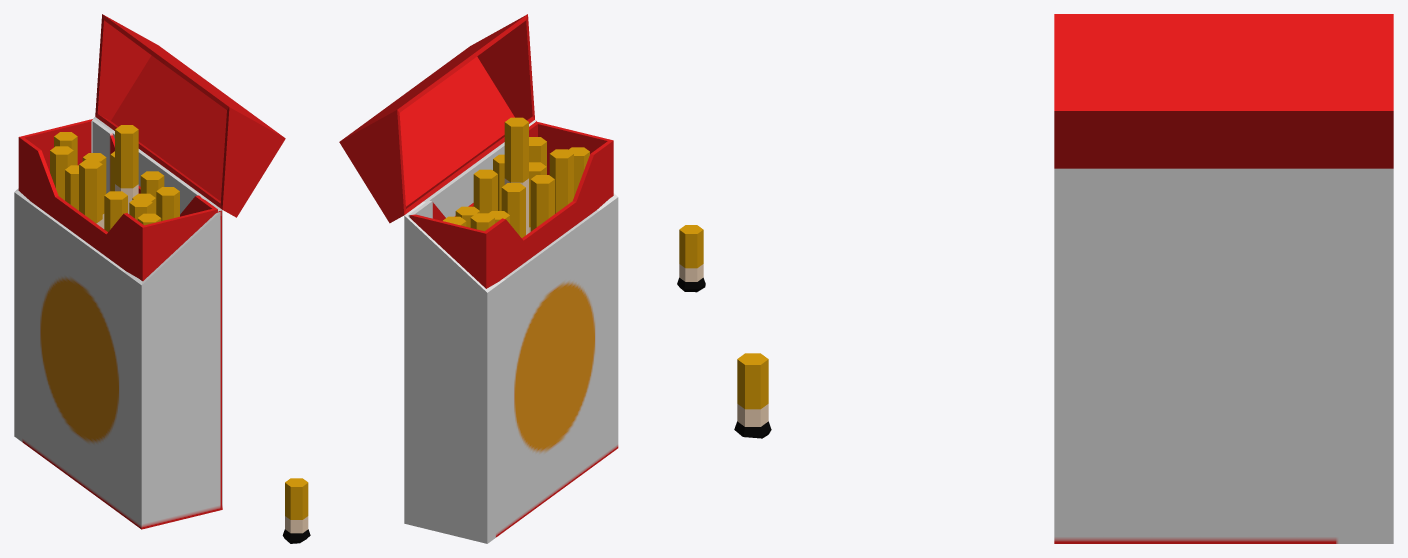
File: ciggy fixed.fbx
The picture shows the model from 3 angles, left to right: view 1: azimuth 30°, elevation 25°; view 2: azimuth 150°, elevation 25°; view 3: azimuth 270°, elevation 25°; orthographic projection. The views are drawn at different scales.
Visible parts, largest first — view 1: ciggy box, ciggy, ciggy.014, used ciggy; view 2: ciggy box, ciggy, ciggy.014, used ciggy; view 3: ciggy box, ciggy, used ciggy.
Boxes of the visible parts, bbox=[...] form: ciggy box: bbox=[14, 117, 222, 529]; ciggy: bbox=[95, 14, 285, 217]; ciggy.014: bbox=[50, 125, 179, 231]; used ciggy: bbox=[282, 478, 310, 543]; ciggy box: bbox=[404, 120, 618, 543]; ciggy: bbox=[339, 14, 534, 223]; ciggy.014: bbox=[443, 117, 589, 237]; used ciggy: bbox=[677, 225, 705, 292]; ciggy box: bbox=[1054, 168, 1393, 543]; ciggy: bbox=[1054, 14, 1393, 168]; used ciggy: bbox=[734, 353, 771, 438].
Size of the model in its own units: 238 by 635 by 707.
